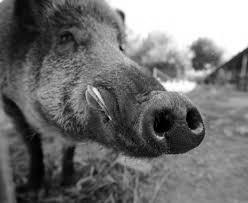wildboar: (0, 0, 210, 191)
